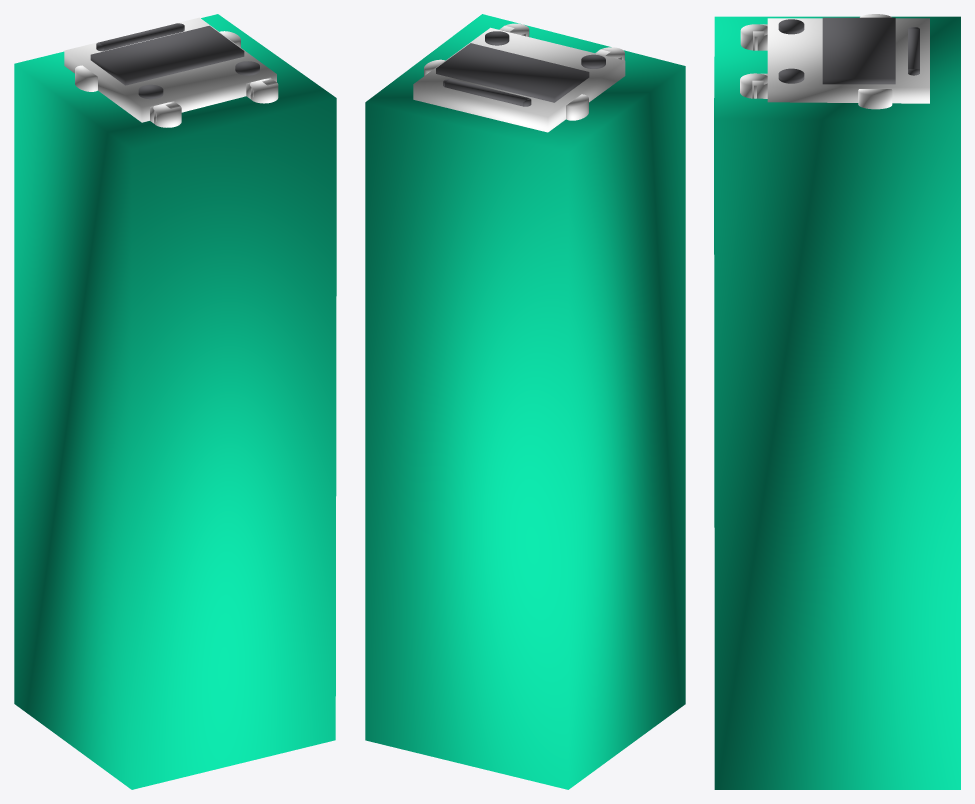
Rendered from busStopTrial.glb.
The picture shows the model from 3 angles, left to right: view 1: azimuth 30°, elevation 25°; view 2: azimuth 150°, elevation 25°; view 3: azimuth 270°, elevation 25°; orthographic projection. The views are drawn at different scales.
Parts seen in each view (by area): view 1: Node1, Mesh0_1, Mesh0_0; view 2: Node1, Mesh0_1, Mesh0_0; view 3: Node1, Mesh0_1, Mesh0_0.
Part boxes in pixels (<box>): Node1: <box>14,14,336,789</box>; Mesh0_1: <box>64,17,278,127</box>; Mesh0_0: <box>90,23,259,99</box>; Node1: <box>365,14,685,789</box>; Mesh0_1: <box>413,23,625,132</box>; Mesh0_0: <box>436,31,605,106</box>; Node1: <box>714,16,960,789</box>; Mesh0_1: <box>740,14,929,109</box>; Mesh0_0: <box>778,17,919,84</box>.
Bounding box in the file's own units: 2.18 × 6.72 × 2.18.
